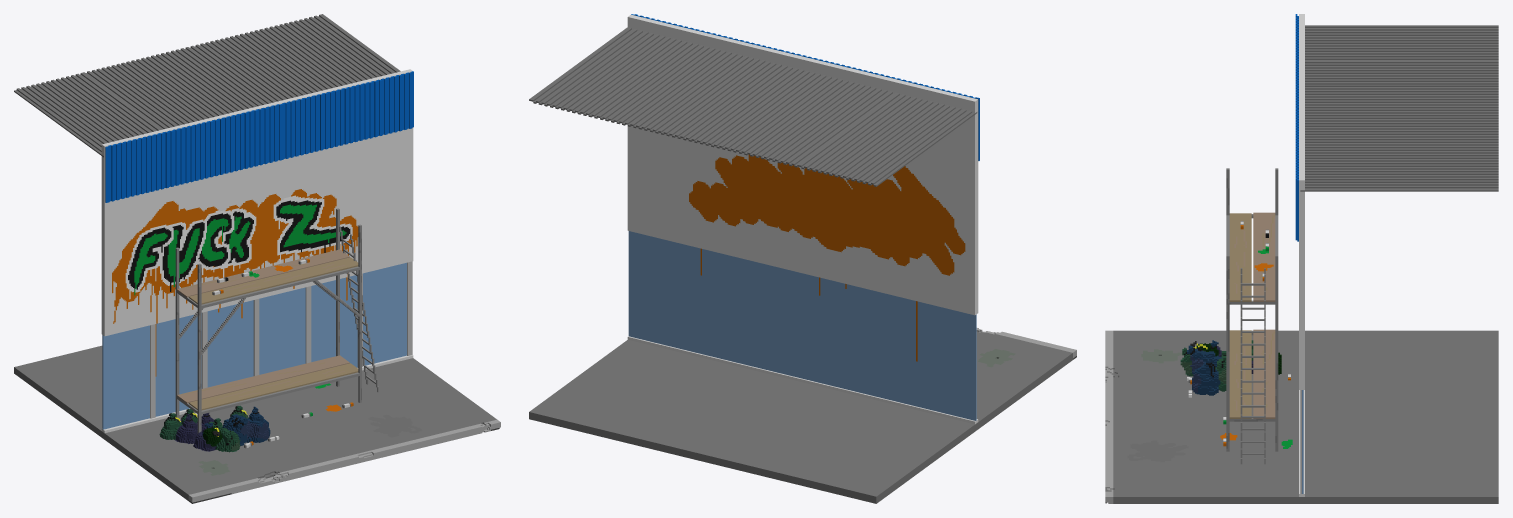
Rendered from shop_v3.vox.obj.
The picture shows the model from 3 angles, left to right: view 1: azimuth 30°, elevation 25°; view 2: azimuth 150°, elevation 25°; view 3: azimuth 270°, elevation 25°; orthographic projection. The views are drawn at different scales.
Size of the model in its own units: 25 by 22.7 by 25.
Materials: 1 (1 with a texture image).
